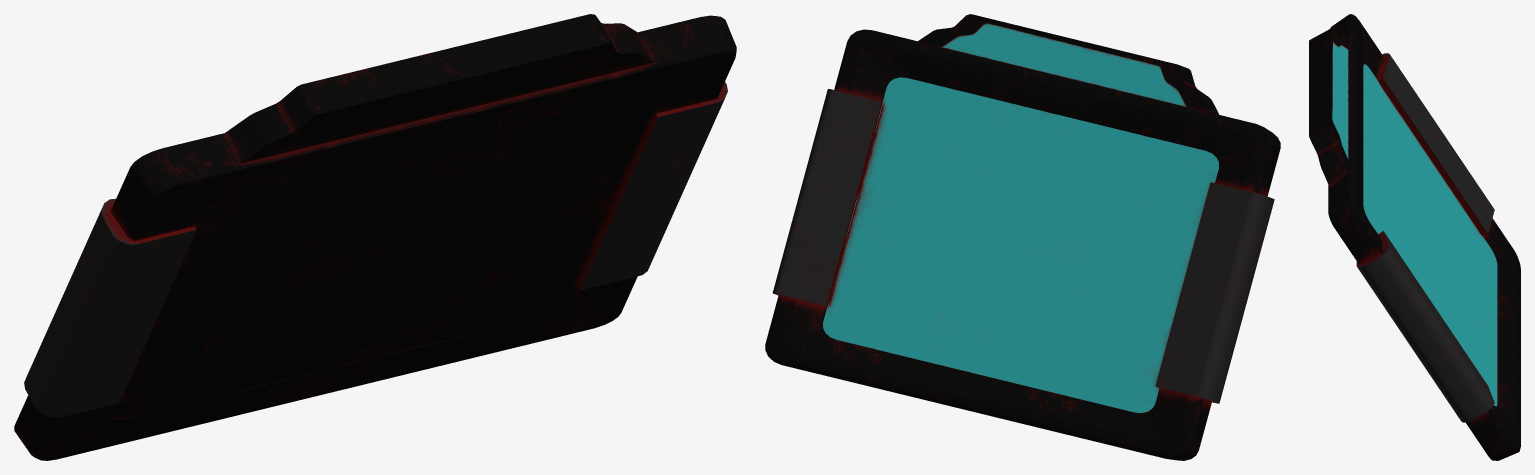
Rendered from PDAWhole.fbx.
3 renders of one model, left to right at view 1: azimuth 30°, elevation 25°; view 2: azimuth 150°, elevation 25°; view 3: azimuth 270°, elevation 25°, orthographic. The views are drawn at different scales.
Visible parts, largest first — view 1: Handle2; view 2: Handle2; view 3: Handle2.
Part boxes in pixels (bbox=[...]): Handle2: bbox=[14, 14, 736, 460]; Handle2: bbox=[765, 14, 1280, 460]; Handle2: bbox=[1309, 14, 1520, 460].
Bounding box in the file's own units: 0.2425 × 0.1636 × 0.1072.
Materials: 1 (1 with a texture image).
